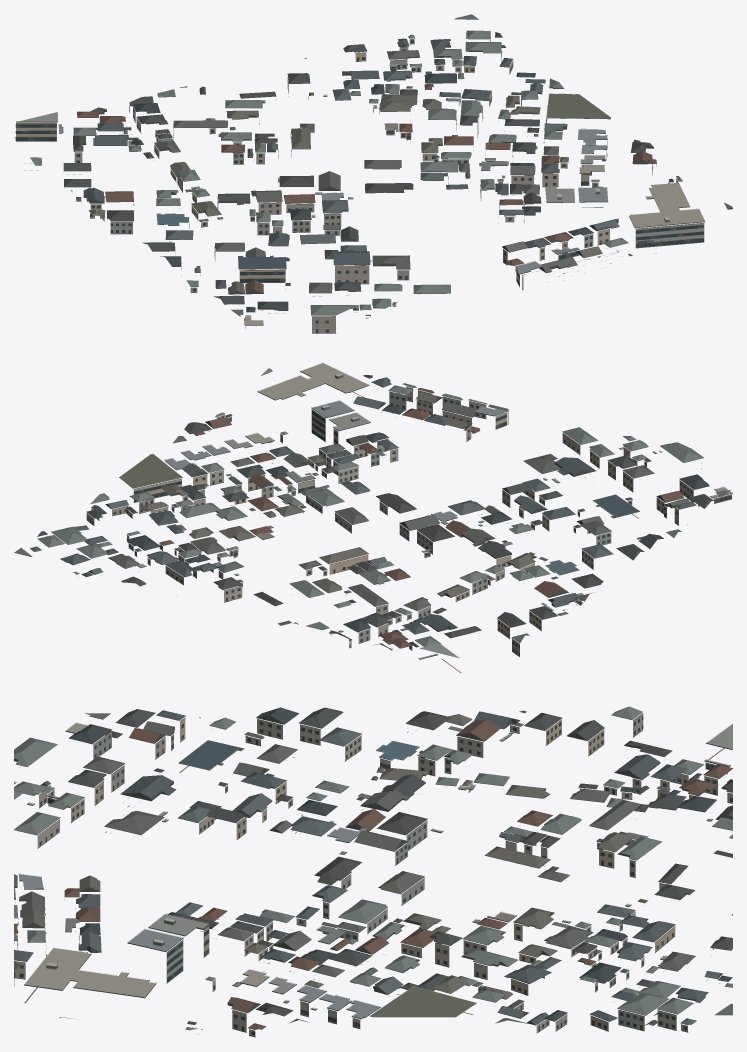
3 views of the same model, one above another, from view 1: azimuth 30°, elevation 25°; view 2: azimuth 150°, elevation 25°; view 3: azimuth 270°, elevation 25° (orthographic). The views are drawn at different scales.
Parts seen in each view (by area): view 1: r4-c0; view 2: r4-c0; view 3: r4-c0.
Part boxes in pixels (left/top/right/bottom): r4-c0: left=14, top=14, right=732, bottom=333; r4-c0: left=14, top=362, right=732, bottom=672; r4-c0: left=14, top=706, right=732, bottom=1037.
Size of the model in its own units: 250 by 13.83 by 250.
